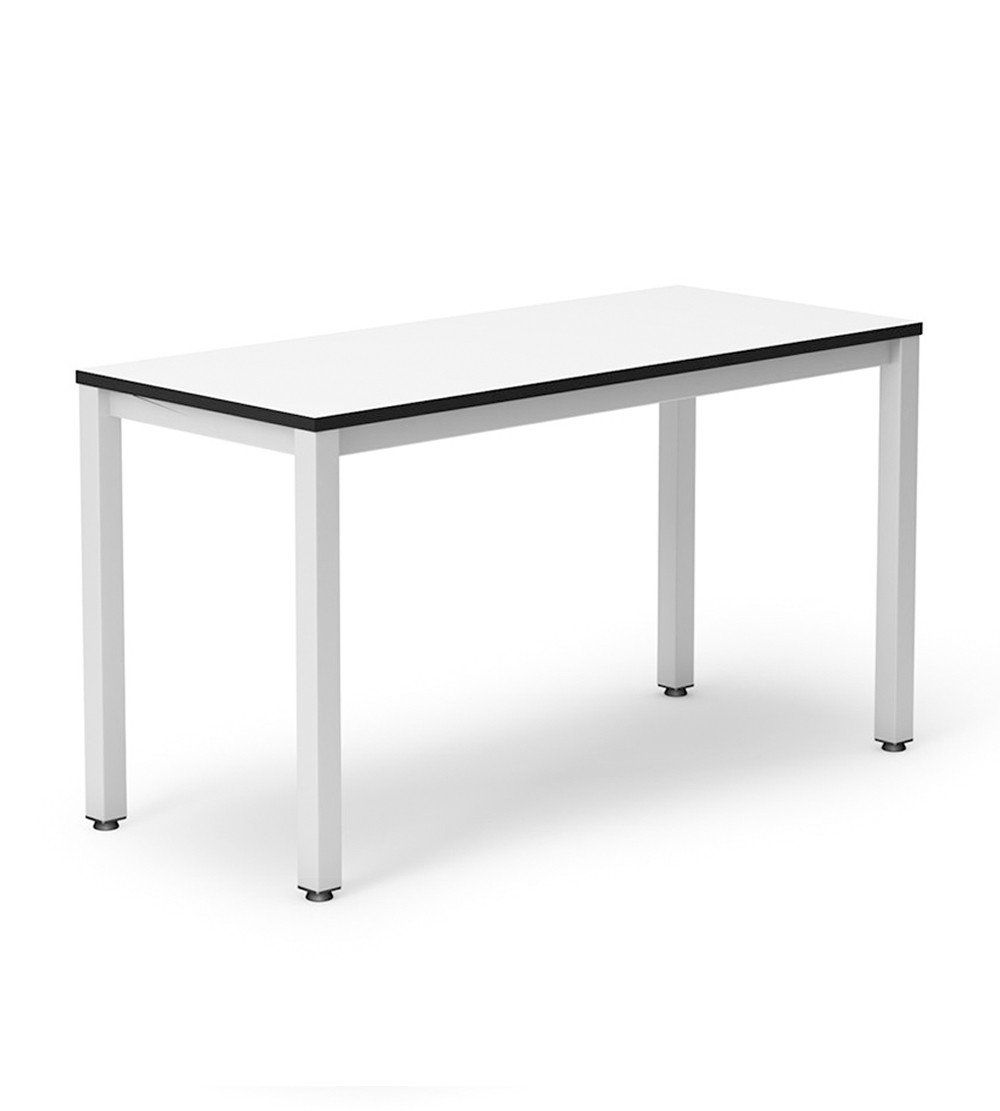m01: (75, 289, 922, 903)
